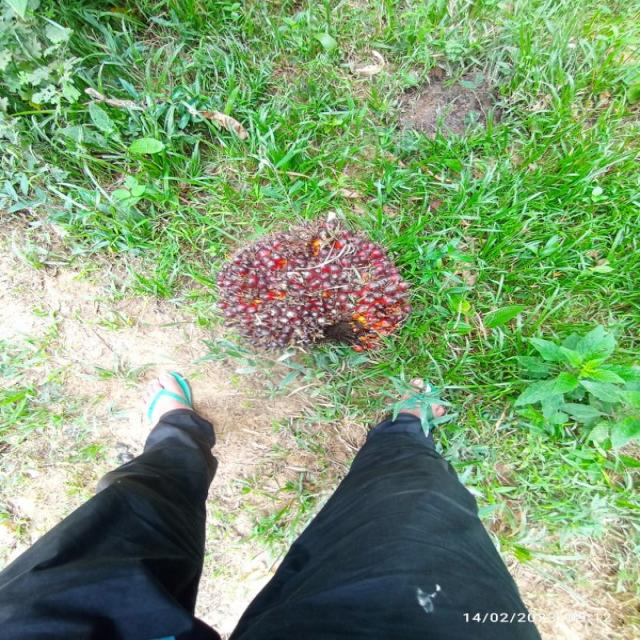fraksi 1: (207, 220, 412, 360)
